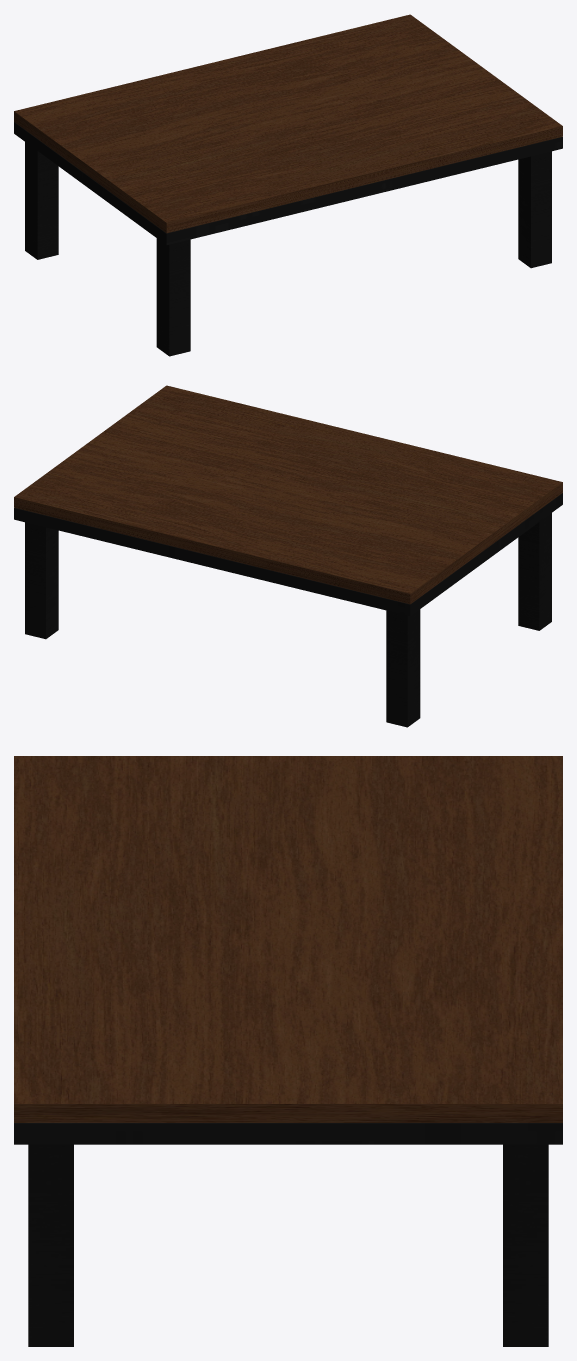
File: kotatsuTable.glb
The picture shows the model from 3 angles, top to bottom: view 1: azimuth 30°, elevation 25°; view 2: azimuth 150°, elevation 25°; view 3: azimuth 270°, elevation 25°; orthographic projection. The views are drawn at different scales.
Visible parts, largest first — view 1: Cube; view 2: Cube; view 3: Cube.
Part boxes in pixels (x1,y1,x2,y2): Cube: (14, 14, 562, 356); Cube: (14, 385, 562, 727); Cube: (14, 756, 562, 1346).
Bounding box in the file's own units: 1.2 × 0.4 × 0.8.
2 materials, 2 textured.
